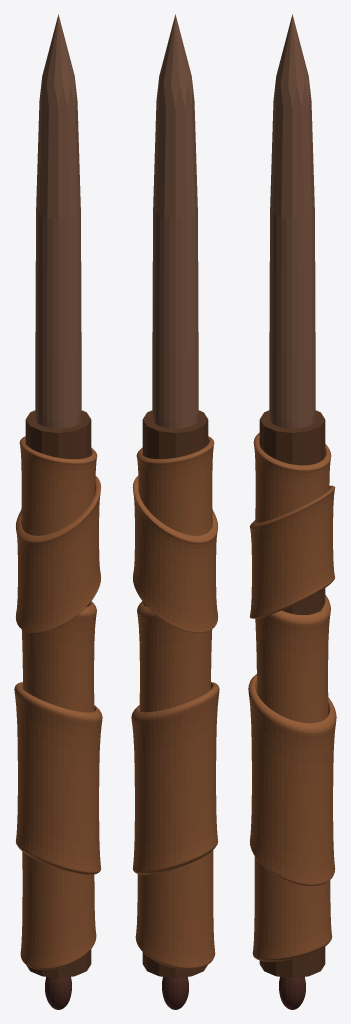
Rendered from Wand 306.glb.
3 renders of one model, left to right at view 1: azimuth 30°, elevation 25°; view 2: azimuth 150°, elevation 25°; view 3: azimuth 330°, elevation 25°, orthographic.
Visible parts, largest first — view 1: GeneratedWand; view 2: GeneratedWand; view 3: GeneratedWand.
Boxes of the visible parts, <box> form: GeneratedWand: <box>14,14,102,1009</box>; GeneratedWand: <box>131,14,219,1009</box>; GeneratedWand: <box>248,14,336,1009</box>.
Bounding box in the file's own units: 0.0408 × 0.5083 × 0.0408.
